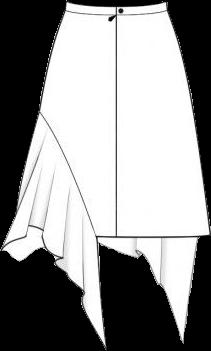Hemline: (0, 223, 110, 350)
Waistline: (38, 112, 210, 239), (65, 0, 166, 10), (64, 8, 167, 17)
